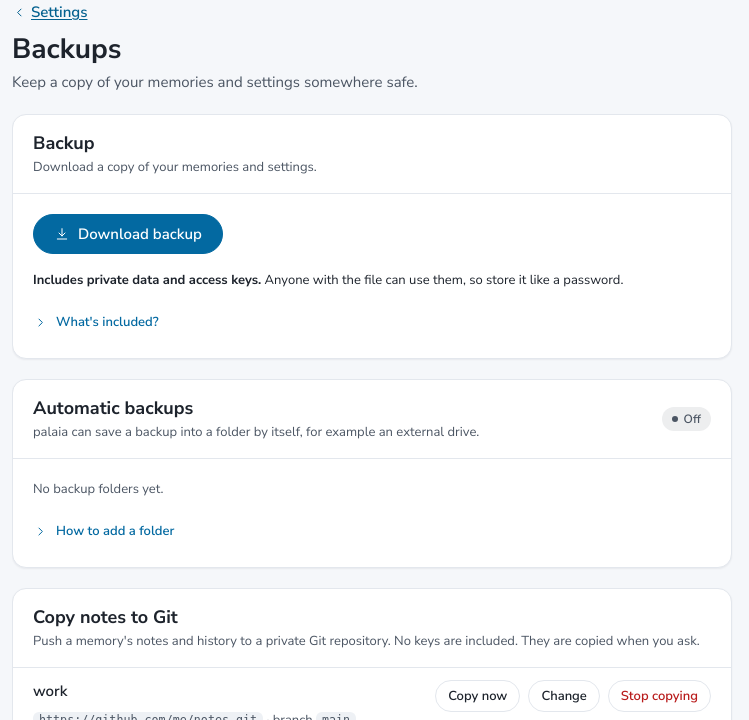
Scenario: Backups: memories in git (issue 438) › pushes on request and shows the hub's reason when it fails
Step 1. Click the button with aria-label "copy work now" → (478, 696), box x1=435 y1=680 x2=520 y2=712
(page scrolled)
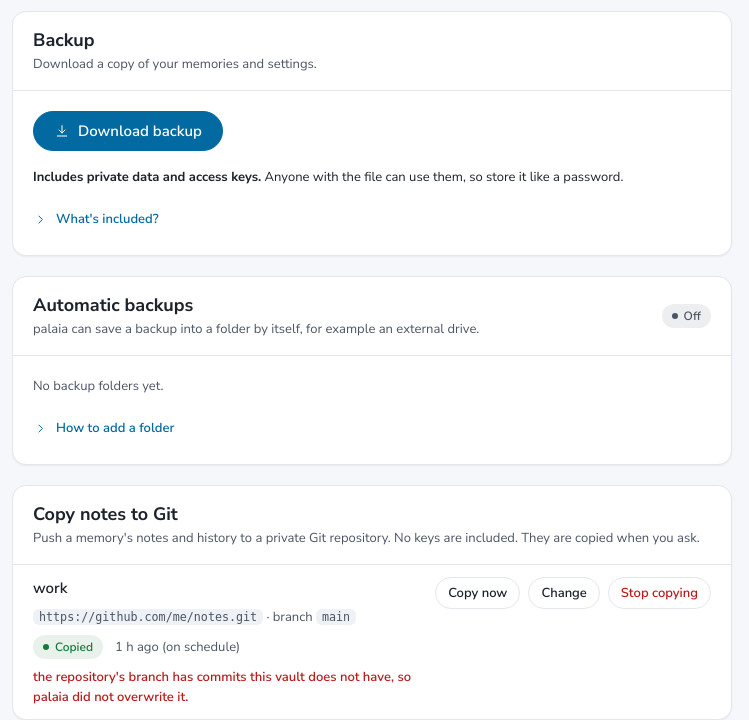
Now the text "did not overwrite it" is shown, box x1=33 y1=668 x2=411 y2=706
